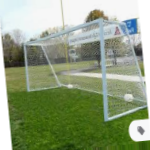goals: (23, 18, 147, 120)
